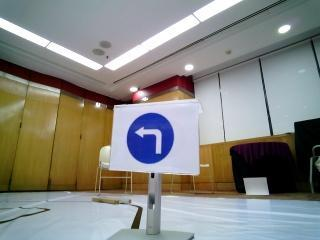left: (115, 106, 194, 178), (178, 201, 178, 202)
